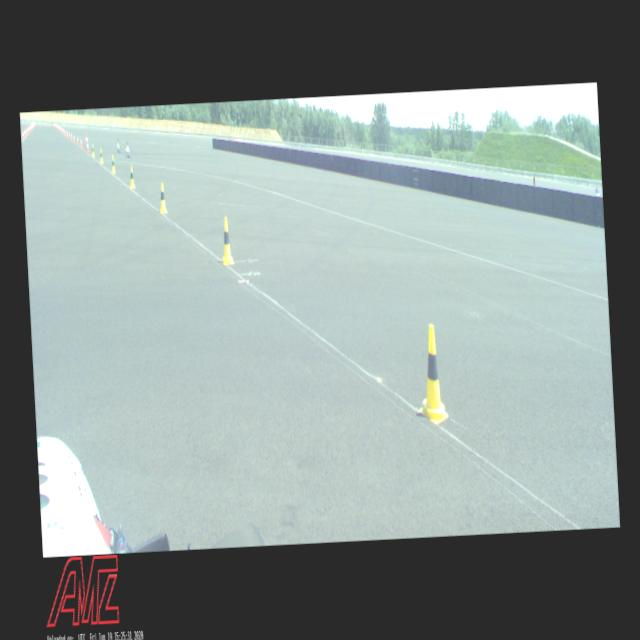large_orange_cone: (86, 134, 90, 152)
orange_cone: (80, 136, 83, 148), (22, 130, 24, 140), (73, 133, 75, 142), (24, 129, 26, 138), (70, 132, 72, 140), (76, 136, 78, 144), (26, 128, 28, 136), (28, 126, 30, 134), (68, 130, 70, 138), (26, 127, 28, 134), (66, 130, 68, 136), (22, 132, 22, 142)
yellow_cone: (416, 324, 448, 422), (220, 217, 233, 265), (158, 182, 167, 214), (130, 166, 136, 188), (98, 148, 104, 164), (111, 154, 116, 173), (92, 143, 95, 157)
